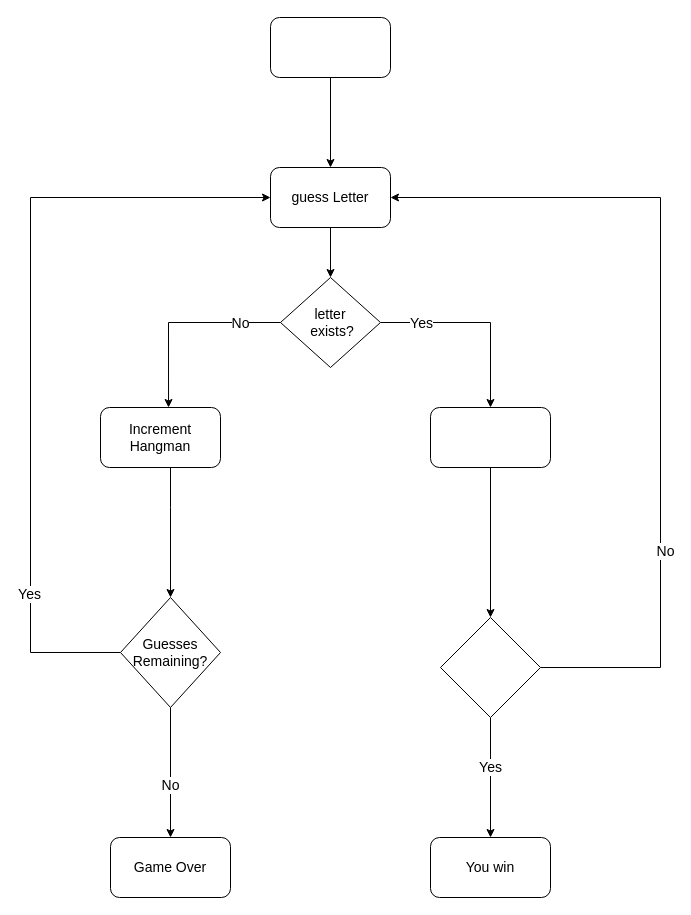
The diagram is 691 pixels wide and 915 high, and some of its shapes have lost their labels. The centre of each missing label's shape, as x and y in pixels:
"Generate Word" belongs at [330,47].
"Show guessed letter" belongs at [490,437].
"Word Revealed?" belongs at [490,667].
